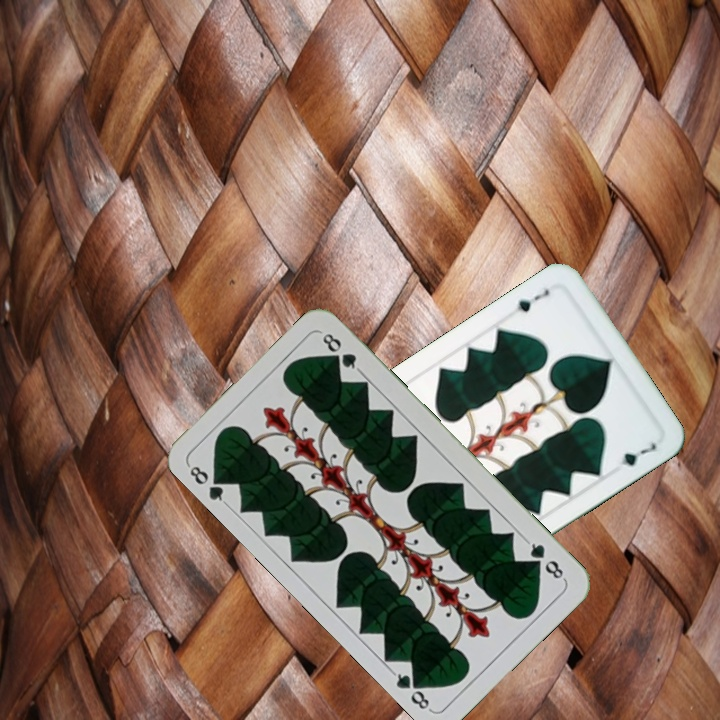G7: (512, 285, 552, 315)
G8: (182, 461, 230, 508), (522, 536, 568, 583)
